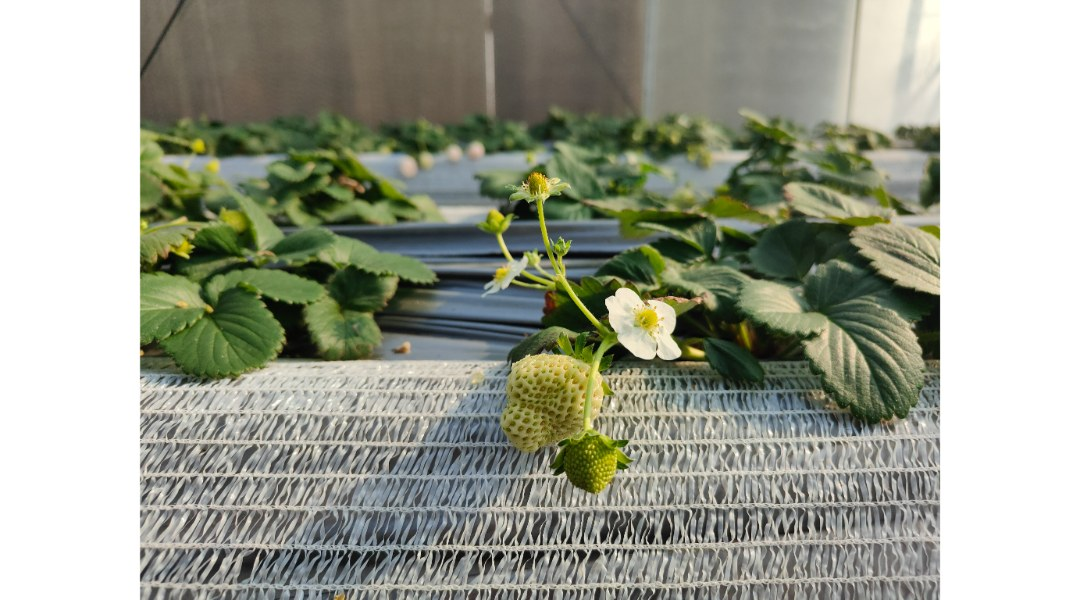berry: (497, 350, 615, 451), (554, 428, 639, 489), (505, 167, 571, 212), (466, 194, 511, 242), (540, 239, 585, 254)
flower: (598, 284, 696, 368), (478, 254, 529, 298)
strain: (565, 288, 616, 334), (531, 201, 560, 280), (582, 343, 605, 441)
